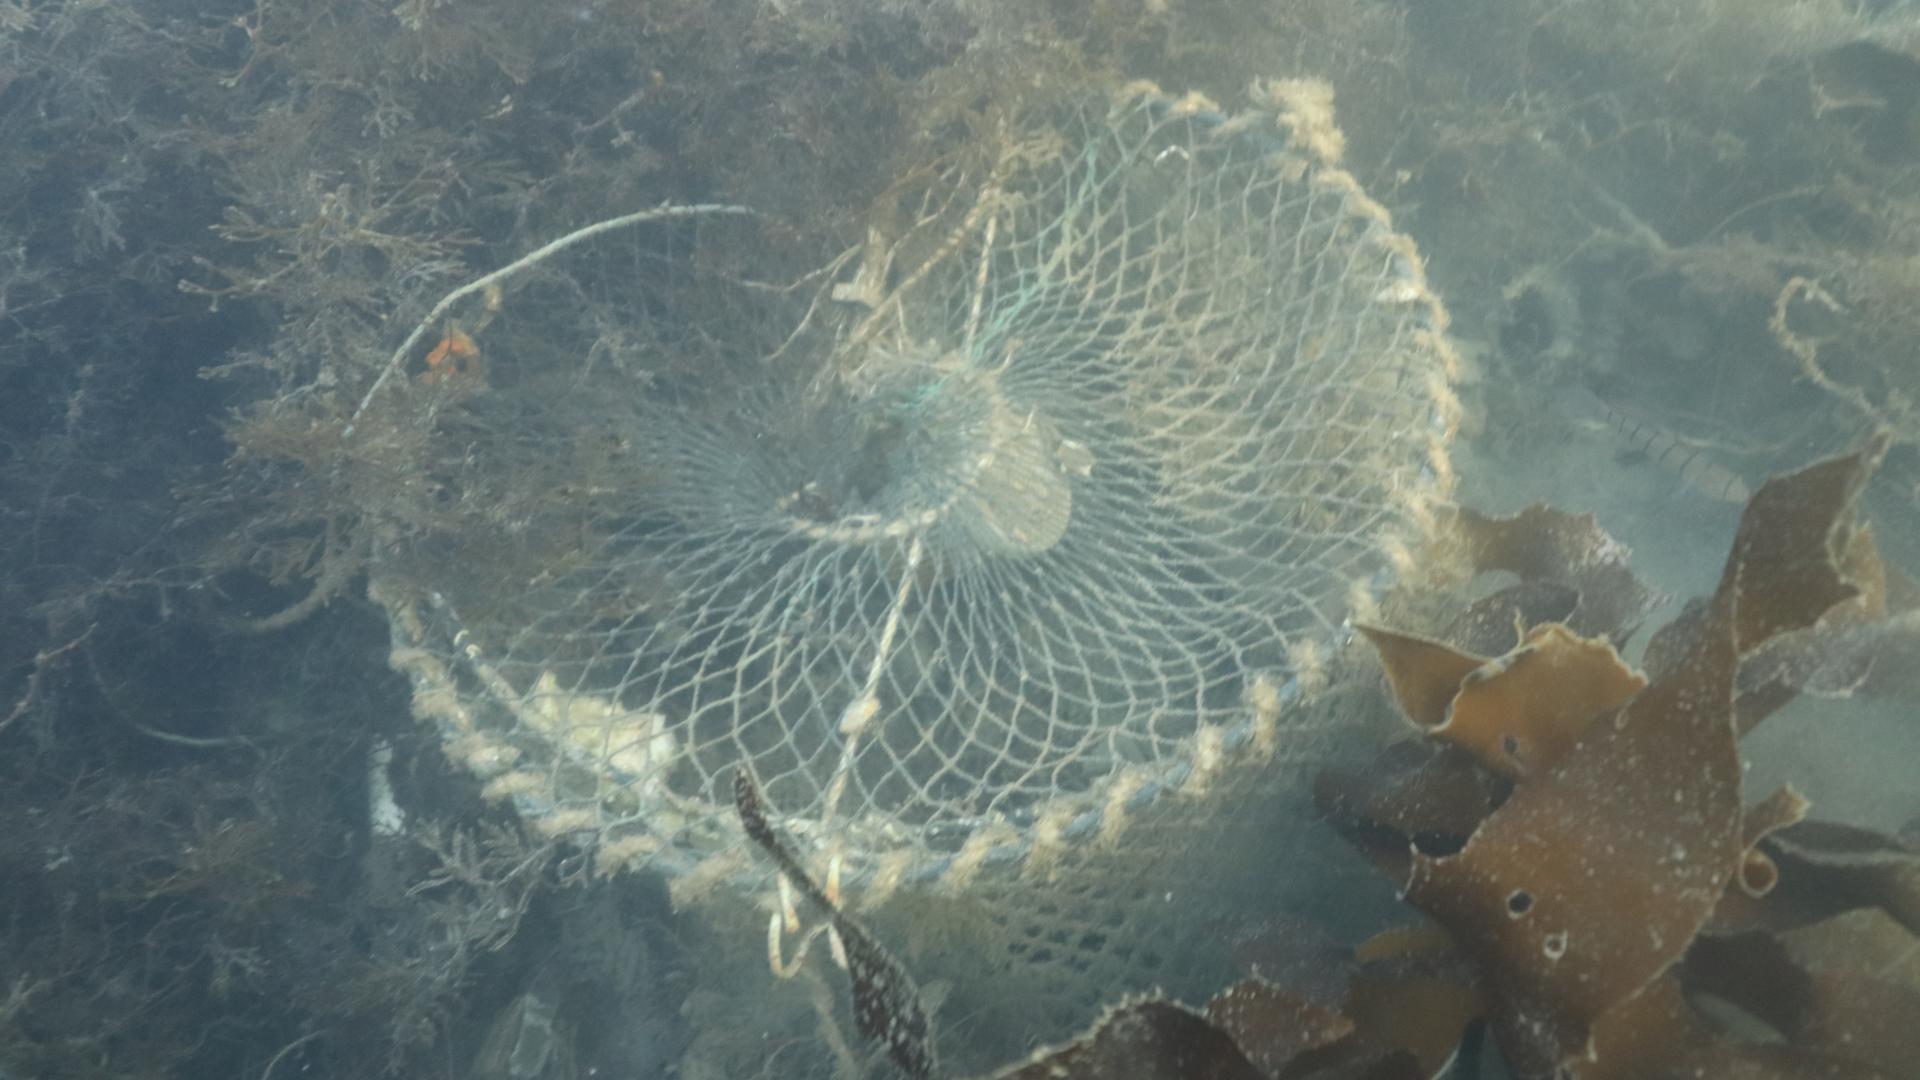circular fish trap: (376, 76, 1460, 1079)
